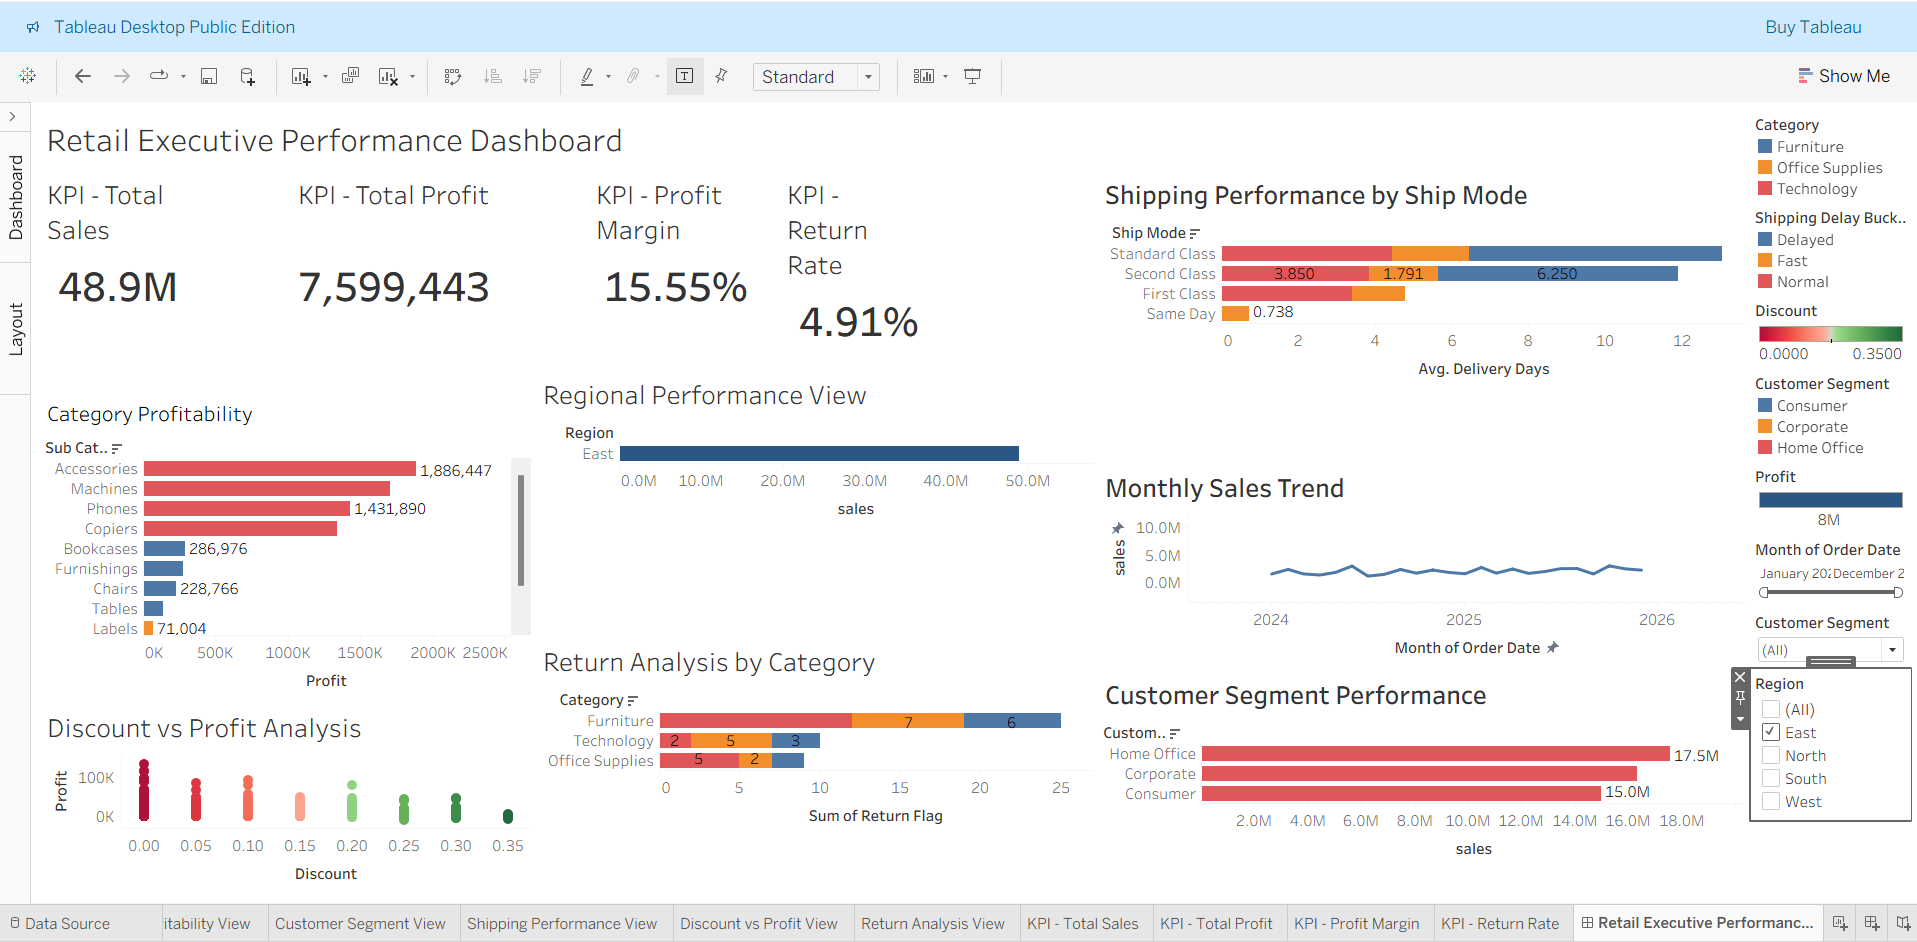

What the dashboard file says about the page in this screenshot:
{"tool":"tableau","page":{"name":"Retail Executive Performance Dashboard","canvas":[1000,1000],"units":"permille","ordinal":0},"visuals":[{"type":"title","box":[4.2,10,906.8,73.7]},{"type":"legend","title":"Category Profitability View","param":"[federated.15yg4991xn6i3n1fv7gwd17u5qou].[none:category:nk]","box":[911,10,84.8,116.1]},{"type":"worksheet","title":"KPI - Total Sales","mark":"Automatic","box":[4.2,83.7,132.8,249.7]},{"type":"worksheet","title":"KPI - Total Profit","mark":"Automatic","box":[137.1,83.7,158,249.7]},{"type":"worksheet","title":"KPI - Profit Margin","mark":"Automatic","box":[295,83.7,101.3,249.7]},{"type":"worksheet","title":"KPI - Return Rate","mark":"Automatic","box":[396.3,83.7,168.1,249.7]},{"type":"worksheet","title":"Shipping Performance View","mark":"Automatic","rows":["ship_mode"],"cols":["delivery_days"],"box":[564.4,83.7,346.6,365.8]},{"type":"legend","title":"Shipping Performance View","param":"[federated.15yg4991xn6i3n1fv7gwd17u5qou].[none:Calculation_1319706012667909:nk]","box":[911,126.1,84.8,116.1]},{"type":"legend","title":"Discount vs Profit View","param":"[federated.15yg4991xn6i3n1fv7gwd17u5qou].[none:discount:qk]","box":[911,242.2,84.8,91.1]},{"type":"worksheet","title":"Category Profitability View","mark":"Automatic","rows":["sub_category"],"cols":["profit"],"box":[4.2,333.3,262.6,415.7]},{"type":"worksheet","title":"Regional Performance View","mark":"Automatic","rows":["region"],"cols":["sales"],"box":[266.8,333.3,297.6,333.3]},{"type":"legend","title":"Return Analysis View","param":"[federated.15yg4991xn6i3n1fv7gwd17u5qou].[none:customer_segment:nk]","box":[911,333.4,84.8,116.1]},{"type":"worksheet","title":"Sales Trend View","mark":"Automatic","rows":["sales"],"cols":["order_date"],"box":[564.4,449.4,346.6,258.4]},{"type":"legend","title":"Regional Performance View","param":"[federated.15yg4991xn6i3n1fv7gwd17u5qou].[sum:profit:qk]","box":[911,449.5,84.8,91.1]},{"type":"filter","title":"Sales Trend View","param":"[federated.15yg4991xn6i3n1fv7gwd17u5qou].[tmn:order_date:qk]","box":[911,540.6,84.8,91.1]},{"type":"filter","title":"Customer Segment View","param":"[federated.15yg4991xn6i3n1fv7gwd17u5qou].[none:customer_segment:nk]","box":[911,631.7,84.8,76.2]},{"type":"worksheet","title":"Return Analysis View","mark":"Automatic","rows":["category"],"cols":["return_flag"],"box":[266.8,666.7,297.6,323.3]},{"type":"worksheet","title":"Customer Segment View","mark":"Automatic","rows":["customer_segment"],"cols":["sales"],"box":[564.4,707.9,346.6,282.1]},{"type":"filter","title":"Regional Performance View","param":"[federated.15yg4991xn6i3n1fv7gwd17u5qou].[none:region:nk]","box":[911,707.9,84.8,188.5]},{"type":"worksheet","title":"Discount vs Profit View","mark":"Circle","rows":["profit"],"cols":["discount"],"box":[4.2,749.1,262.6,241]}]}

Visuals, with their boxes on the dashboard's canvas, which has no fixed pixel size, in thousandths of its width and height (x1, y1, x2, y2). These are canvas units, not pixel positions in the 1917x942 screenshot, which may show the page scaled, cropped or inside an application window:
title: [x1=4, y1=10, x2=911, y2=84]
"Category Profitability View" legend: [x1=911, y1=10, x2=996, y2=126]
"KPI - Total Sales" worksheet: [x1=4, y1=84, x2=137, y2=333]
"KPI - Total Profit" worksheet: [x1=137, y1=84, x2=295, y2=333]
"KPI - Profit Margin" worksheet: [x1=295, y1=84, x2=396, y2=333]
"KPI - Return Rate" worksheet: [x1=396, y1=84, x2=564, y2=333]
"Shipping Performance View" worksheet: [x1=564, y1=84, x2=911, y2=450]
"Shipping Performance View" legend: [x1=911, y1=126, x2=996, y2=242]
"Discount vs Profit View" legend: [x1=911, y1=242, x2=996, y2=333]
"Category Profitability View" worksheet: [x1=4, y1=333, x2=267, y2=749]
"Regional Performance View" worksheet: [x1=267, y1=333, x2=564, y2=667]
"Return Analysis View" legend: [x1=911, y1=333, x2=996, y2=450]
"Sales Trend View" worksheet: [x1=564, y1=449, x2=911, y2=708]
"Regional Performance View" legend: [x1=911, y1=450, x2=996, y2=541]
"Sales Trend View" filter: [x1=911, y1=541, x2=996, y2=632]
"Customer Segment View" filter: [x1=911, y1=632, x2=996, y2=708]
"Return Analysis View" worksheet: [x1=267, y1=667, x2=564, y2=990]
"Customer Segment View" worksheet: [x1=564, y1=708, x2=911, y2=990]
"Regional Performance View" filter: [x1=911, y1=708, x2=996, y2=896]
"Discount vs Profit View" worksheet (Circle marks): [x1=4, y1=749, x2=267, y2=990]
